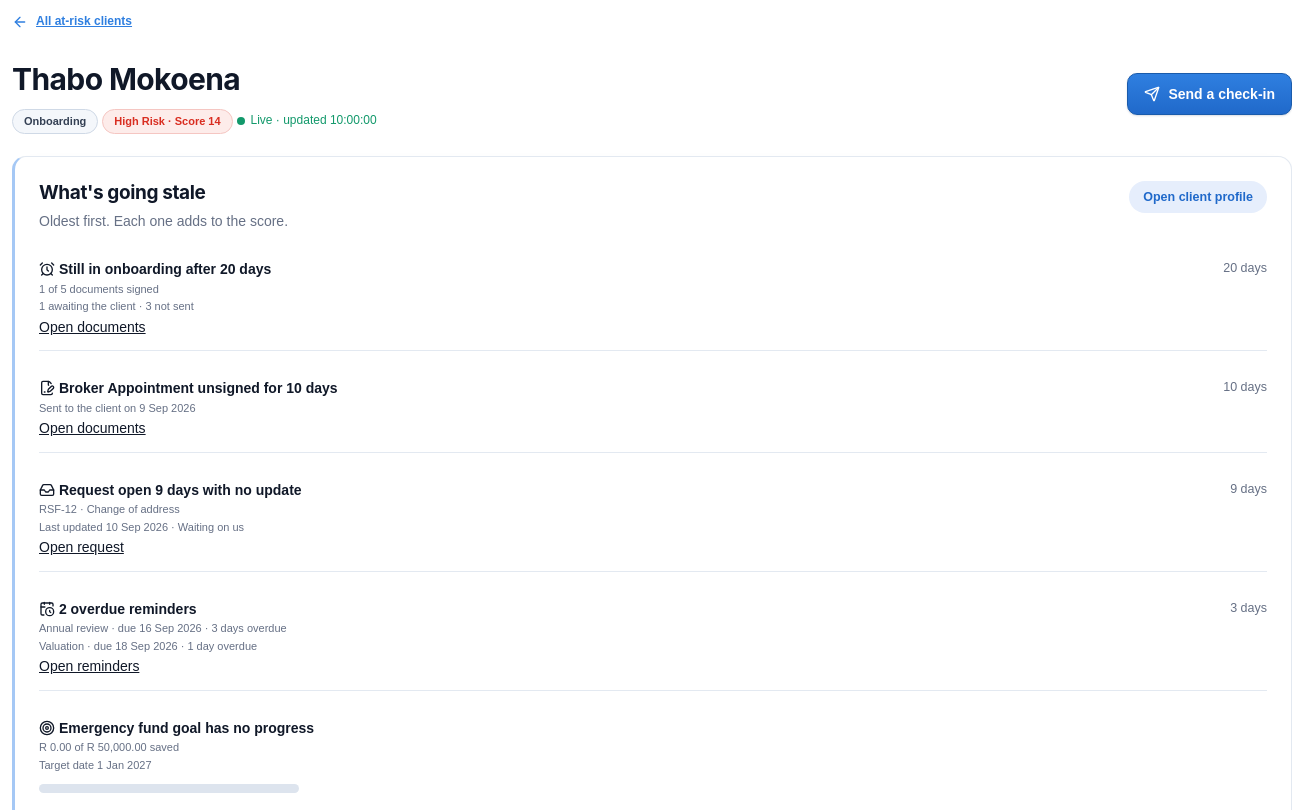
Test: Client Pulse drill-down › sends the check-in and confirms it clearly, showing what the client will see
This screenshot has width=1304, height=810.
Click the button "Send a check-in" at coordinates (1210, 94), box top-left (1127, 72), bottom-right (1292, 115)
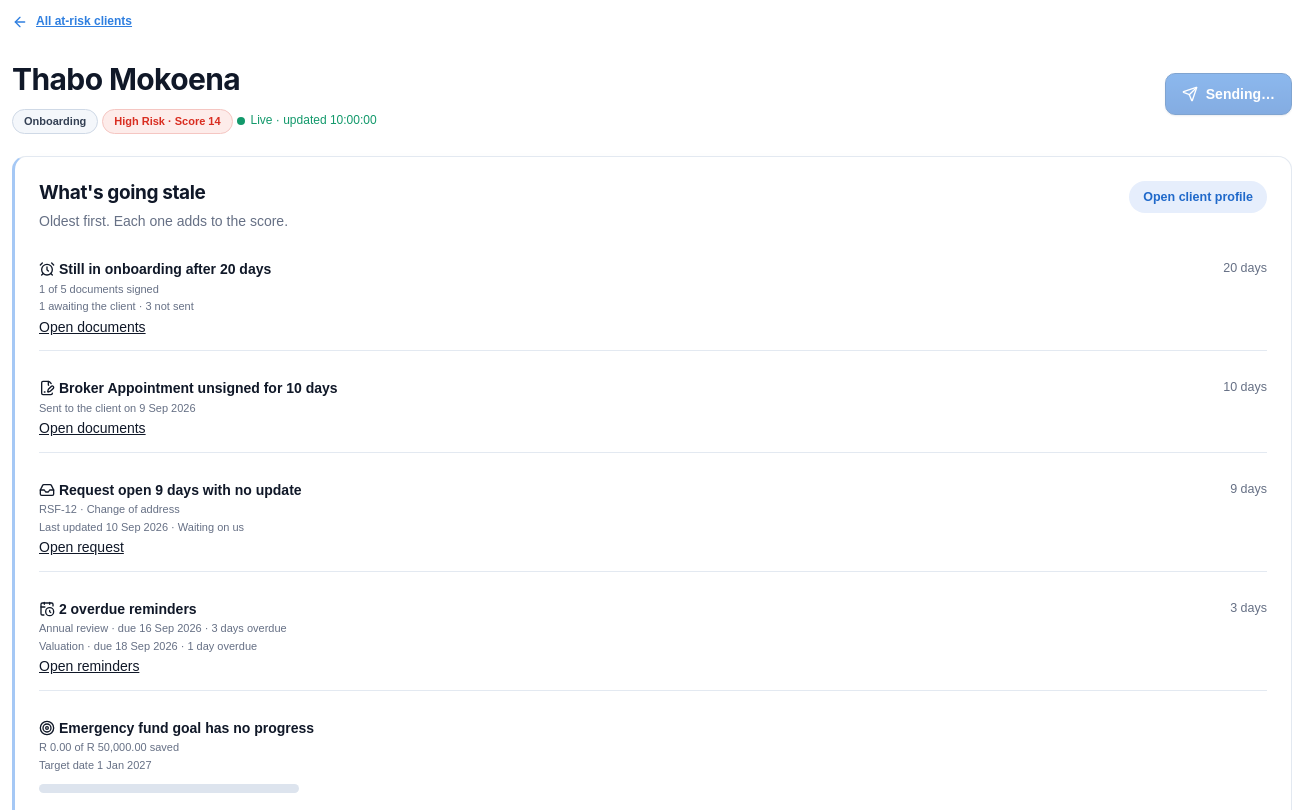
Check: the button "Sending…" is disabled
Click the button "Sending…" at coordinates (1228, 94), box top-left (1165, 72), bottom-right (1292, 115)
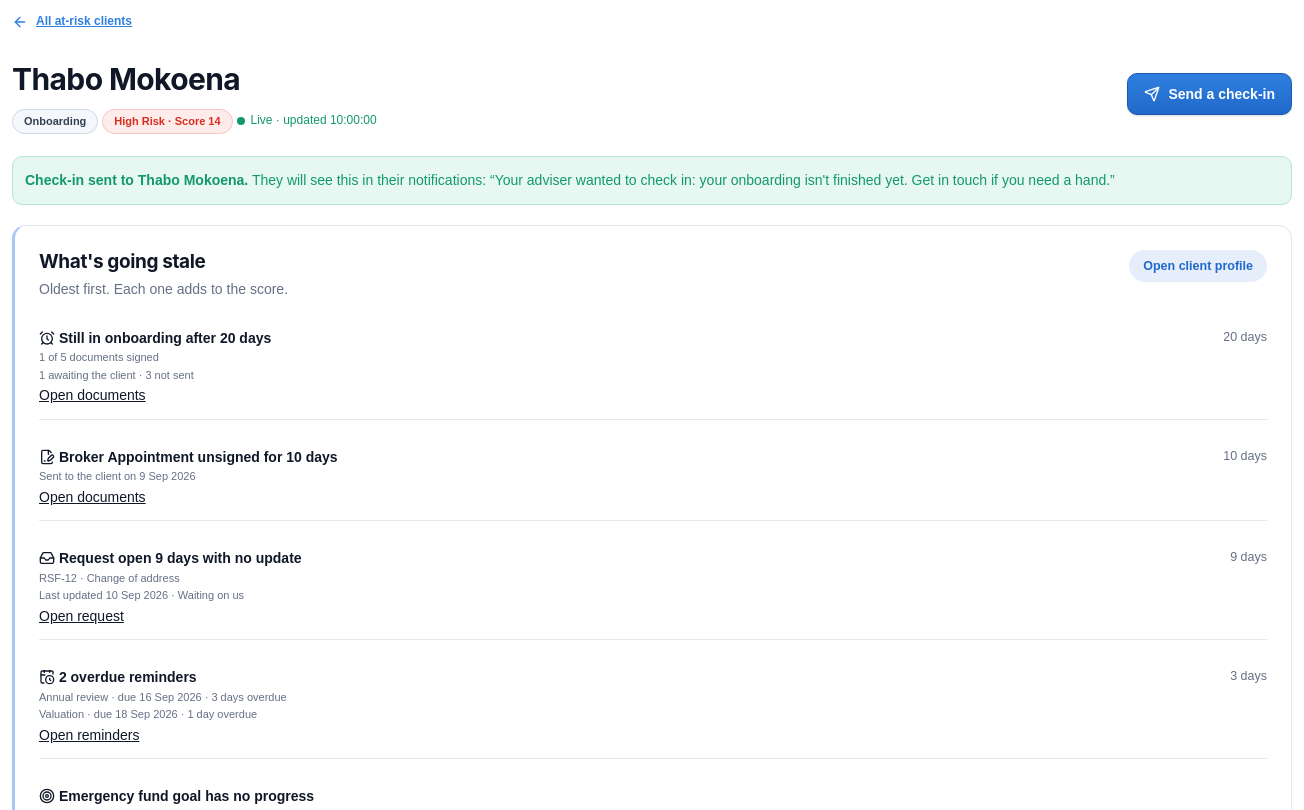
Check: the text "Check-in sent to Thabo Mokoena." shows "your onboarding isn't finished yet", box top-left (495, 172), bottom-right (1110, 188)
Check: the button "Send a check-in" is enabled, box top-left (1127, 72), bottom-right (1292, 115)
